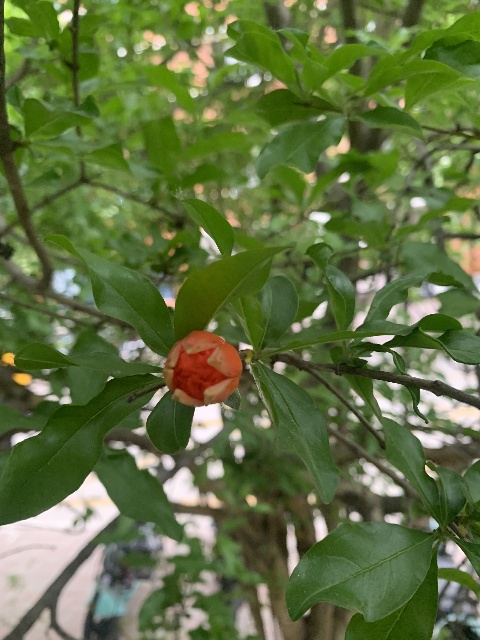flower: (163, 330, 242, 406)
